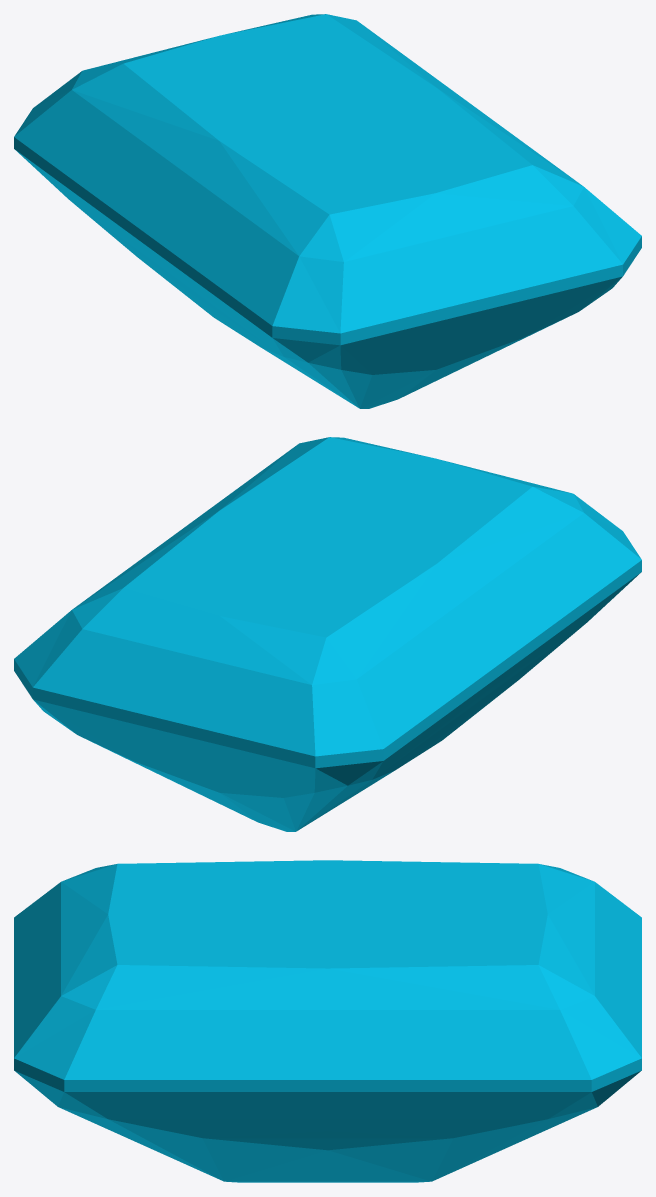
Rendered from Head_No Halo_Radiant_0.75ct_Diamond.glb.
3 views of the same model, one above another, from view 1: azimuth 30°, elevation 25°; view 2: azimuth 150°, elevation 25°; view 3: azimuth 270°, elevation 25° (orthographic). The views are drawn at different scales.
Bounding box in the file's own units: 0.00457 × 0.00311 × 0.00658.
